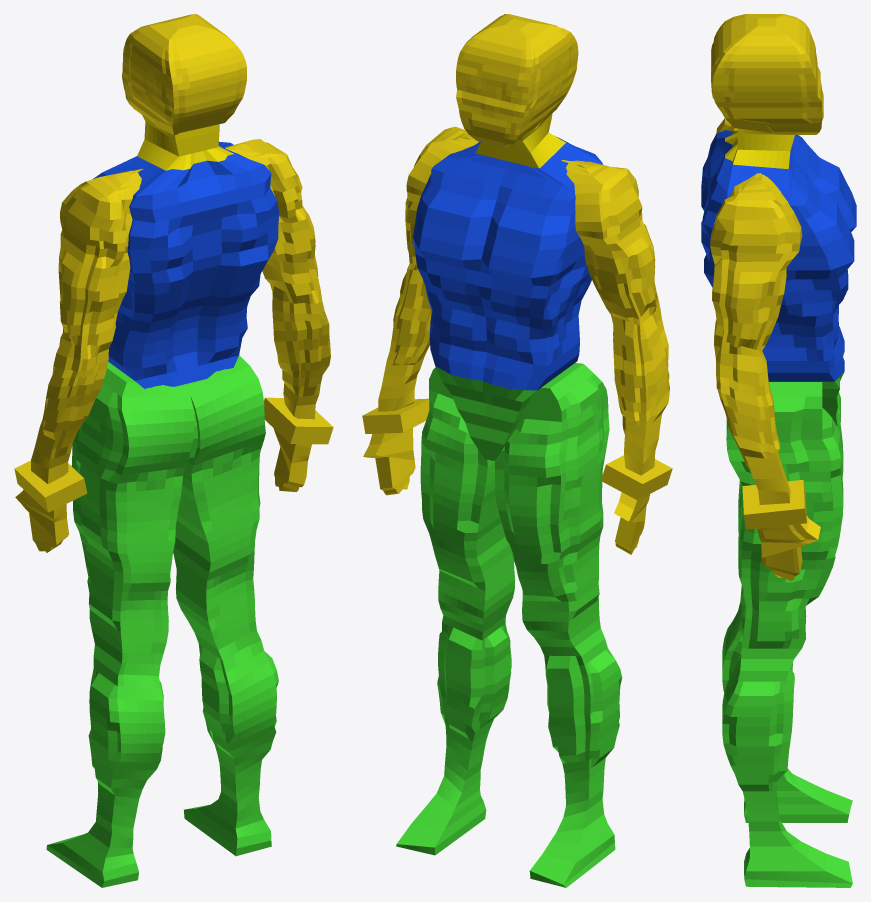
The model's file is noob.fbx.
The picture shows the model from 3 angles, left to right: view 1: azimuth 30°, elevation 25°; view 2: azimuth 150°, elevation 25°; view 3: azimuth 270°, elevation 25°; orthographic projection. The views are drawn at different scales.
Parts seen in each view (by area): view 1: Legs, Arms, Torso, Head; view 2: Legs, Torso, Arms, Head; view 3: Legs, Arms, Torso, Head.
Part boxes in pixels (x1,y1,x2,y2): Legs: (46, 355, 278, 887); Arms: (14, 139, 333, 552); Torso: (93, 113, 279, 458); Head: (122, 14, 246, 135); Legs: (396, 363, 622, 887); Torso: (413, 114, 602, 460); Arms: (362, 126, 672, 554); Head: (456, 14, 578, 147); Legs: (722, 382, 852, 887); Arms: (710, 118, 820, 580); Torso: (701, 128, 856, 425); Head: (711, 14, 823, 134).
Bounding box in the file's own units: 239 × 662 × 113.
